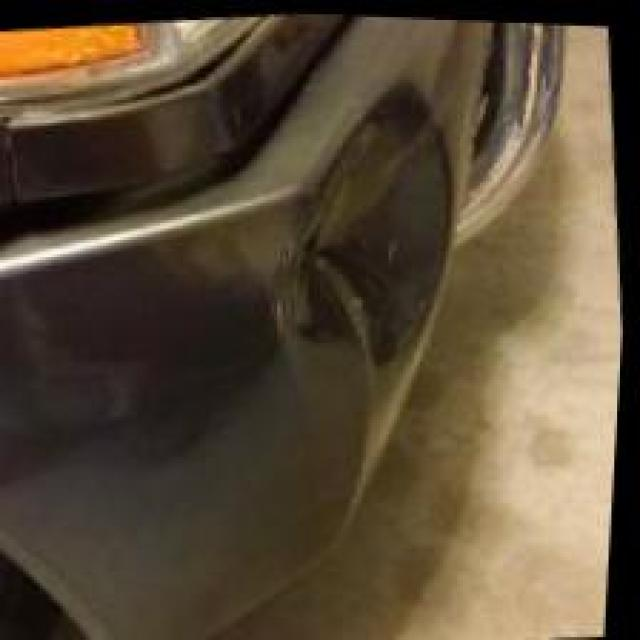car damage: (0, 69, 459, 640)
